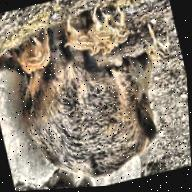boar: (4, 18, 181, 189), (2, 19, 57, 81), (136, 22, 178, 73), (58, 13, 99, 63), (87, 7, 124, 47)
